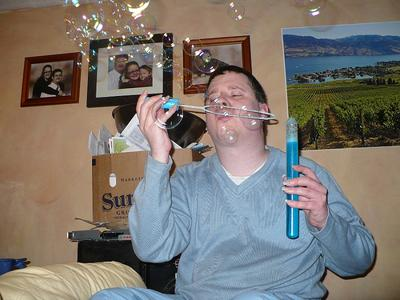person: (126, 63, 378, 300)
